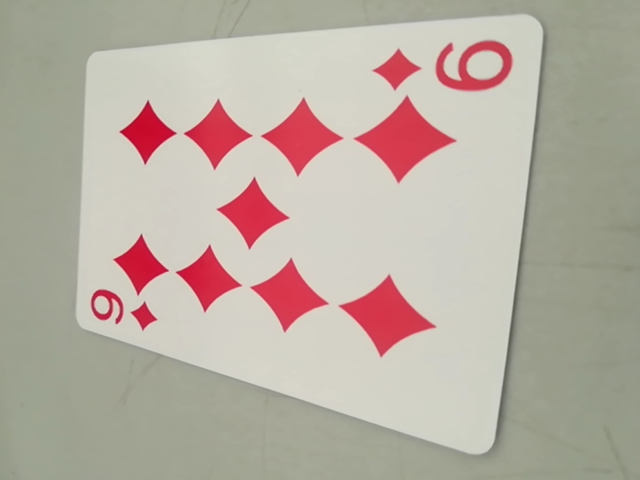fk 9: (373, 28, 518, 104), (82, 287, 166, 338)
